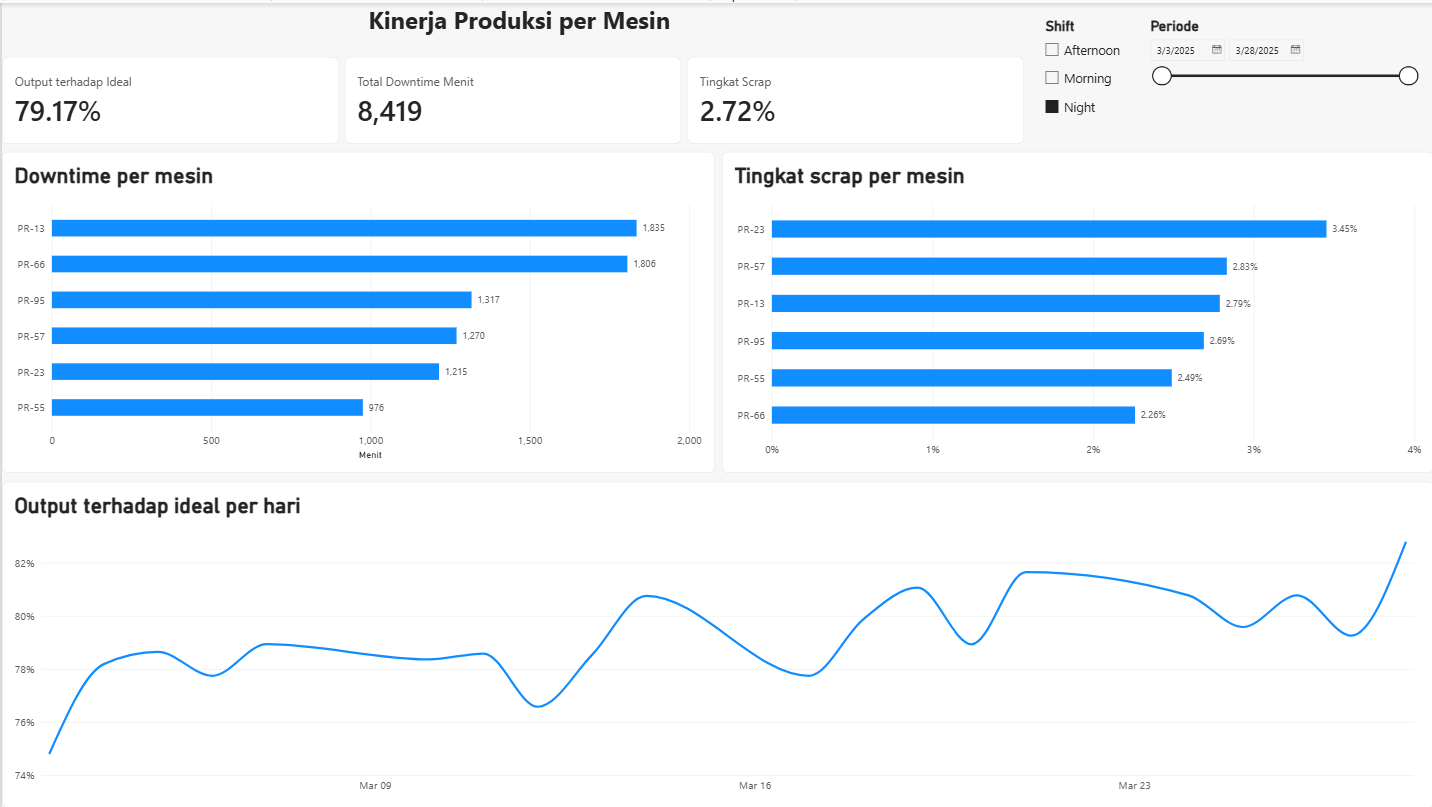

The dashboard page shown, as its layout file describes it:
{"tool":"powerbi","page":{"name":"Page 1","canvas":[1920,1080],"ordinal":0},"visuals":[{"type":"cardVisual","fields":{"Data":["manufacturing_oee.Output terhadap Ideal","manufacturing_oee.Total Downtime Menit","manufacturing_oee.Tingkat Scrap"]},"box":[0,72.5,1370,117.5],"z":0},{"type":"clusteredBarChart","title":"Downtime per mesin","fields":{"Category":["manufacturing_oee.machine_code"],"Y":["manufacturing_oee.Total Downtime Menit"]},"box":[0,200,955,430],"z":1000},{"type":"clusteredBarChart","title":"Tingkat scrap per mesin","fields":{"Category":["manufacturing_oee.machine_code"],"Y":["manufacturing_oee.Tingkat Scrap"]},"box":[965,200,955,430],"z":2000},{"type":"lineChart","title":"Output terhadap ideal per hari","fields":{"Category":["manufacturing_oee.shift_date"],"Y":["manufacturing_oee.Output terhadap Ideal"]},"box":[0,642,1920,438],"z":3000},{"type":"slicer","fields":{"Values":["manufacturing_oee.shift_name"]},"box":[1370,0,140,190],"z":4000},{"type":"slicer","fields":{"Values":["manufacturing_oee.shift_date"]},"box":[1510,0,410,190],"z":5000},{"type":"textbox","box":[17.5,0,1352.5,72.5],"z":6000}]}

Visuals, with their boxes in screenshot pixels (x1, y1, x2, y2), scaled from the page's 1920x1080 canvas onto the 1432x807 screenshot:
cardVisual - manufacturing_oee.Output terhadap Ideal x manufacturing_oee.Total Downtime Menit: 0 54 1022 142
"Downtime per mesin" clusteredBarChart: 0 149 712 471
"Tingkat scrap per mesin" clusteredBarChart: 720 149 1431 471
"Output terhadap ideal per hari" lineChart: 0 480 1431 806
slicer - manufacturing_oee.shift_name: 1022 0 1126 142
slicer - manufacturing_oee.shift_date: 1126 0 1431 142
textbox: 13 0 1022 54
